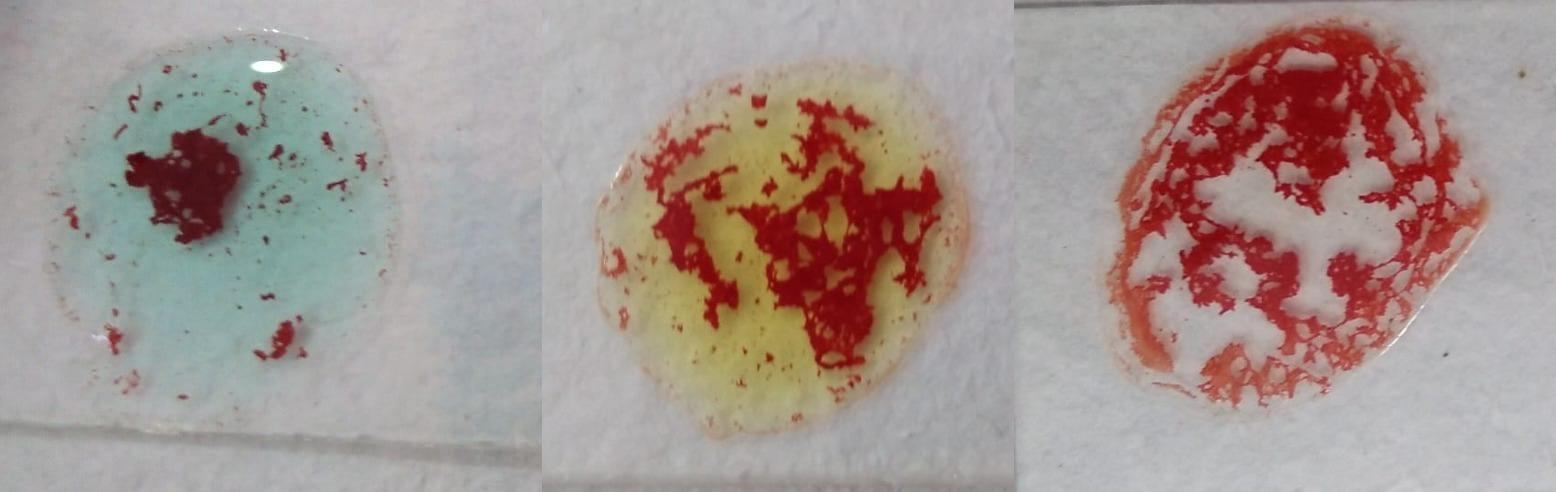A: (54, 29, 404, 421)
B: (596, 69, 960, 423)
D: (1111, 21, 1483, 411)
